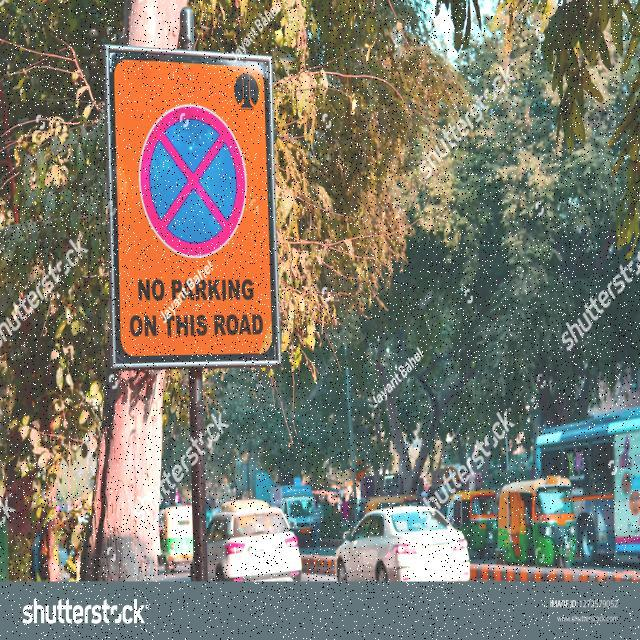Traffic sign: (99, 39, 288, 375)
